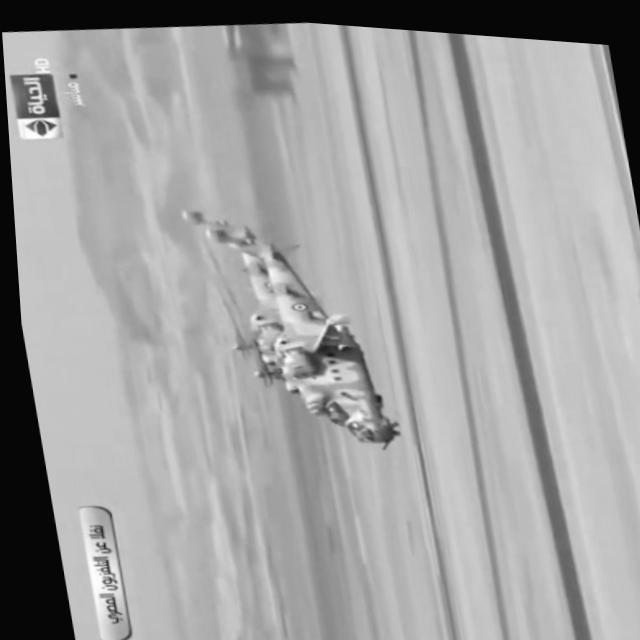helikopter: (209, 194, 404, 461)
